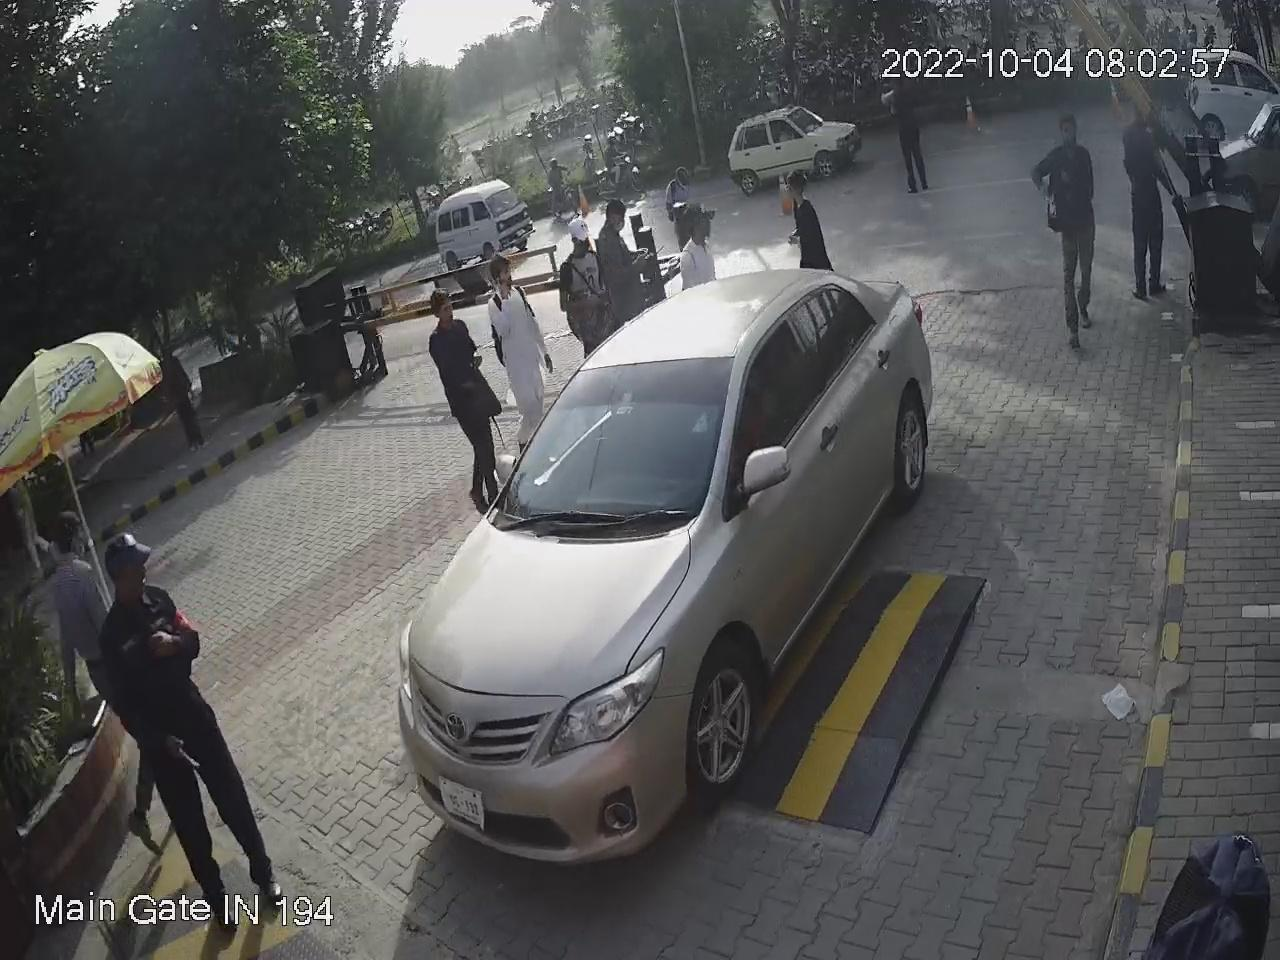windshield: (483, 353, 754, 537)
